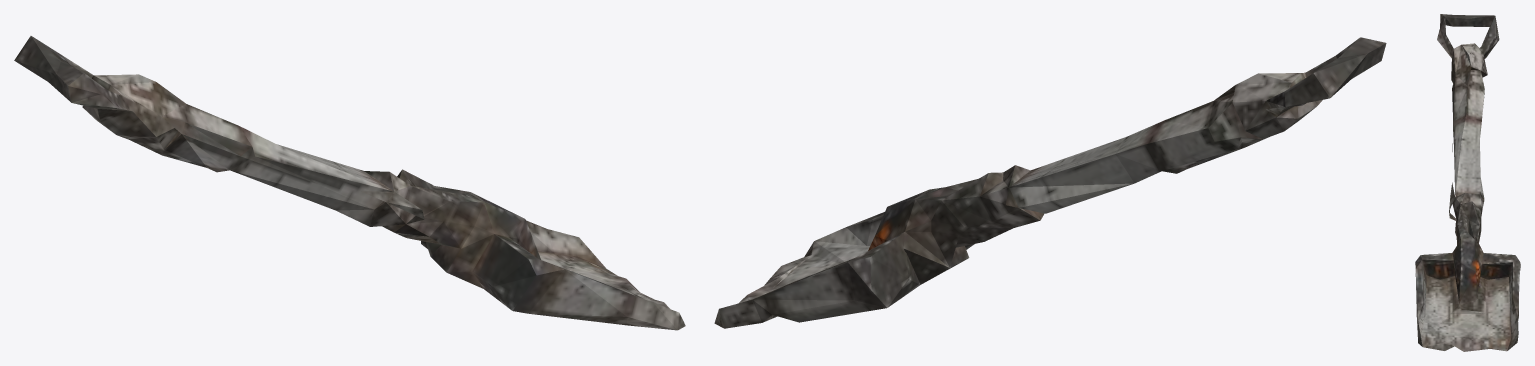
The model's file is prop.shovel.glb.
3 views of the same model, side by side, from view 1: azimuth 30°, elevation 25°; view 2: azimuth 150°, elevation 25°; view 3: azimuth 270°, elevation 25° (orthographic). The views are drawn at different scales.
Visible parts, largest first — view 1: body; view 2: body; view 3: body.
Part boxes in pixels (left/top/right/bottom): body: left=14, top=36, right=685, bottom=330; body: left=714, top=37, right=1386, bottom=328; body: left=1415, top=14, right=1520, bottom=351.
Size of the model in its own units: 0.4958 by 0.3024 by 0.1493.
Materials: 1 (1 with a texture image).
